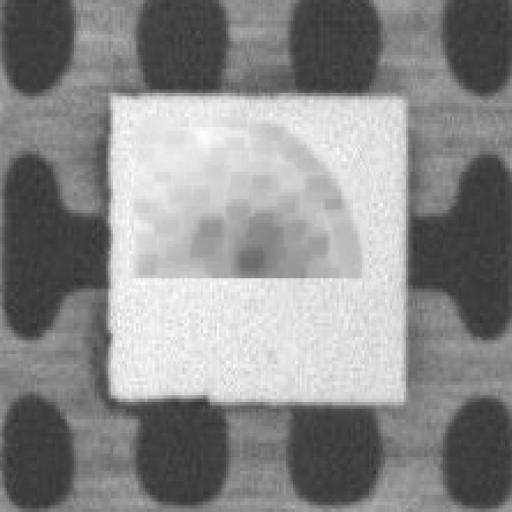DIE_INK: (182, 67, 512, 191)
